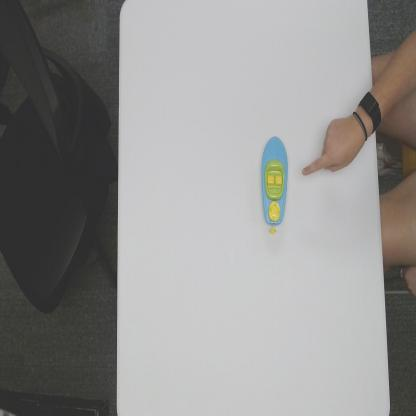Boat: (261, 134, 288, 234)
Hand: (301, 115, 359, 177)
